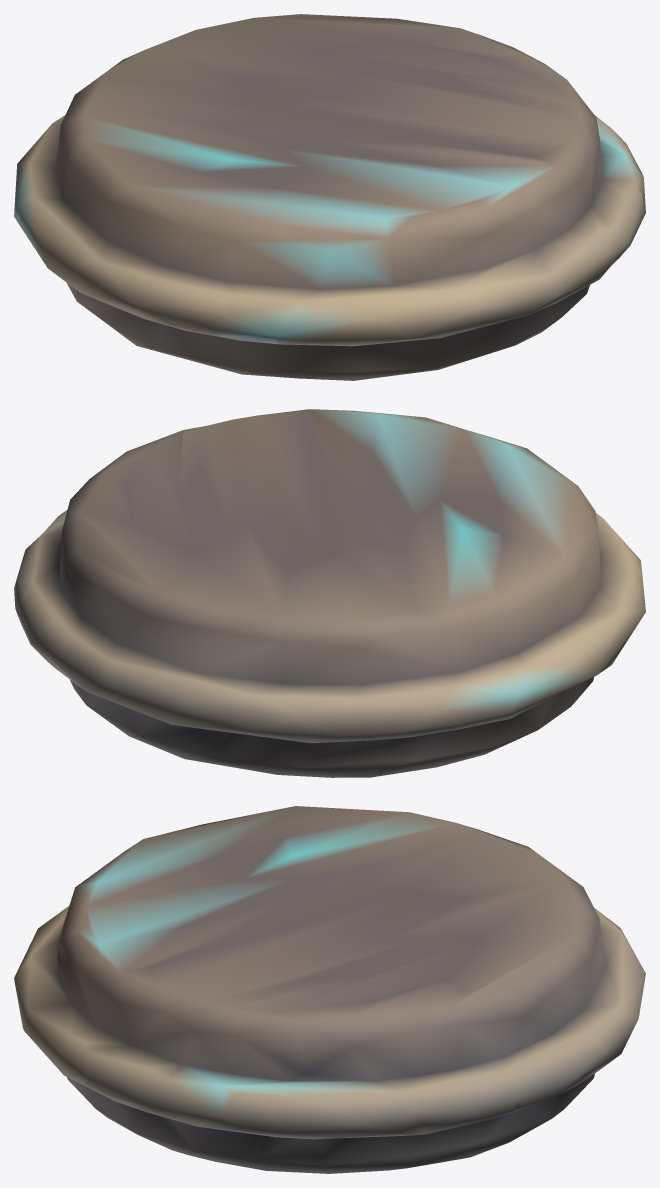
File: burrower_seg1.glb
3 renders of one model, top to bottom at view 1: azimuth 30°, elevation 25°; view 2: azimuth 150°, elevation 25°; view 3: azimuth 270°, elevation 25°, orthographic.
Visible parts, largest first — view 1: geometry_0; view 2: geometry_0; view 3: geometry_0.
Part boxes in pixels (x1,y1,x2,y2): geometry_0: [14, 14, 645, 380]; geometry_0: [14, 409, 645, 777]; geometry_0: [14, 806, 645, 1173].
Size of the model in its own units: 1.24 by 0.34 by 1.24.
